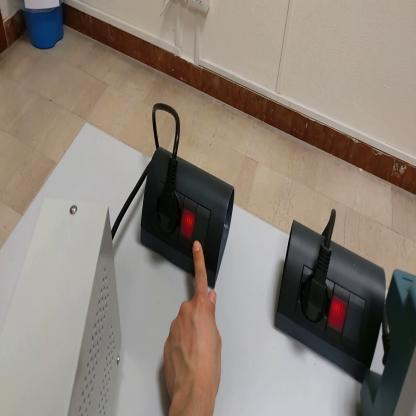hand: (162, 236, 223, 410)
oscilloscope: (360, 273, 415, 416)
power supply: (2, 198, 126, 415)
socket: (276, 223, 387, 385), (141, 147, 236, 291)
